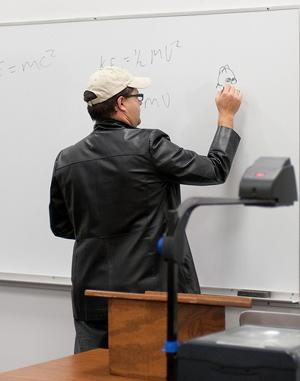person: (50, 66, 244, 355)
